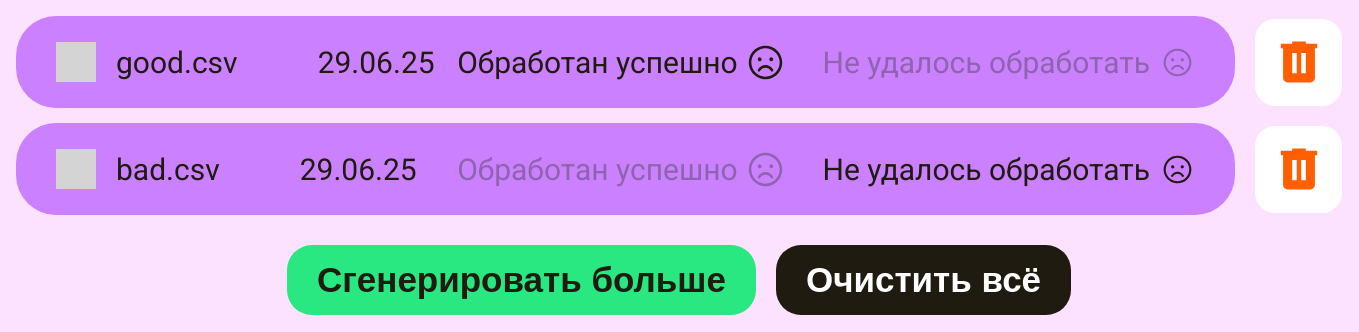
Test: Интеграция: HistoryPage › удаляет запись из истории
Click the button named "удалить запись" in the row of "good.csv" at (1298, 62), box x1=1255 y1=18 x2=1342 y2=106
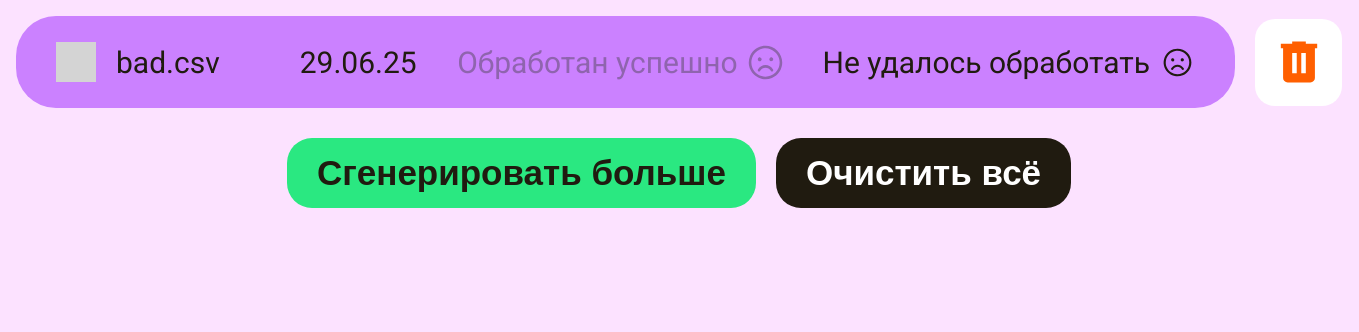
Result: the text "good.csv" is gone
